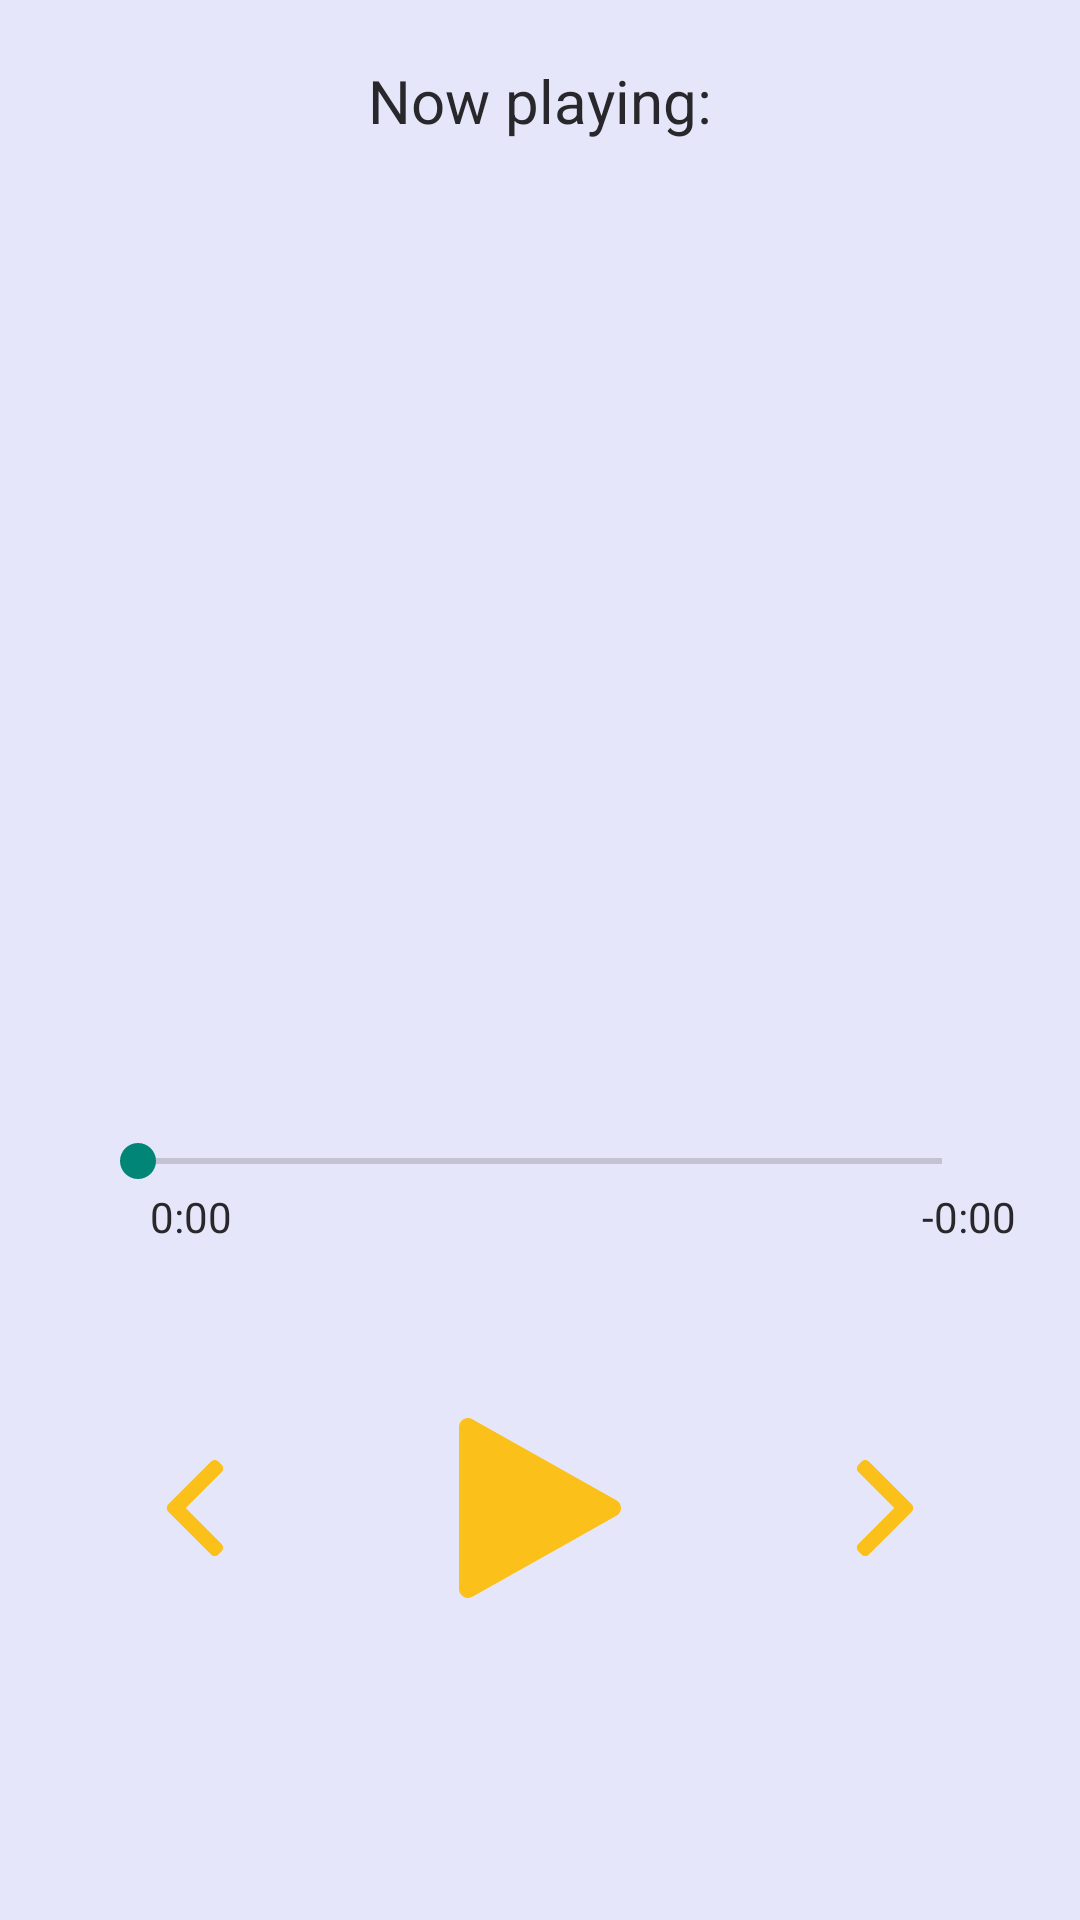

Where icons sit on this 1080 × 1920 app screen, as {"left": x1, "top": y1, "right": x2, "bottom": y2}:
back: {"left": 166, "top": 1460, "right": 224, "bottom": 1556}
next: {"left": 856, "top": 1460, "right": 914, "bottom": 1556}
play: {"left": 459, "top": 1418, "right": 621, "bottom": 1598}
